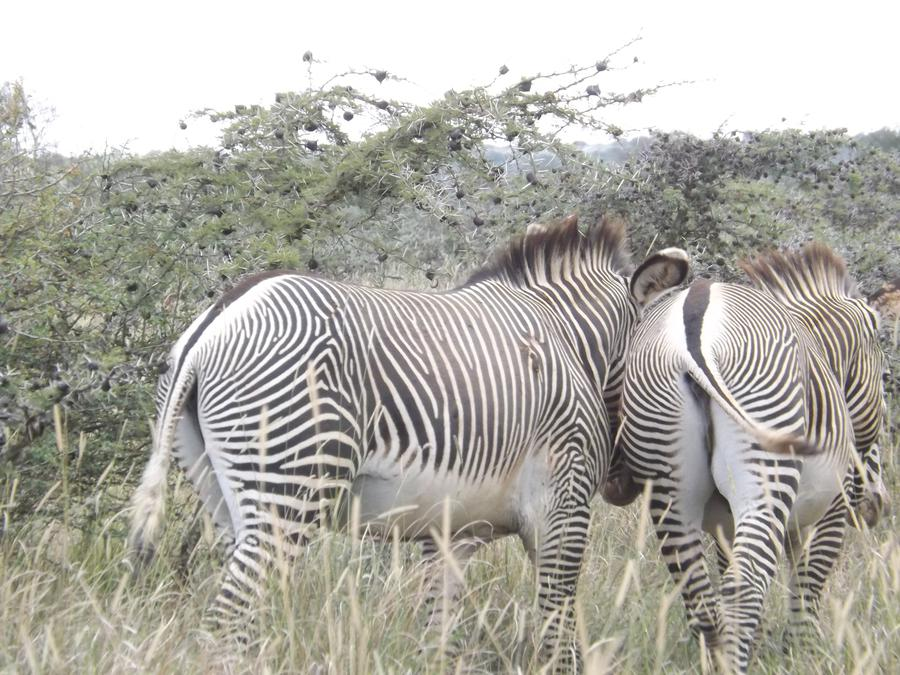zebra_grevys: (180, 251, 613, 528)
